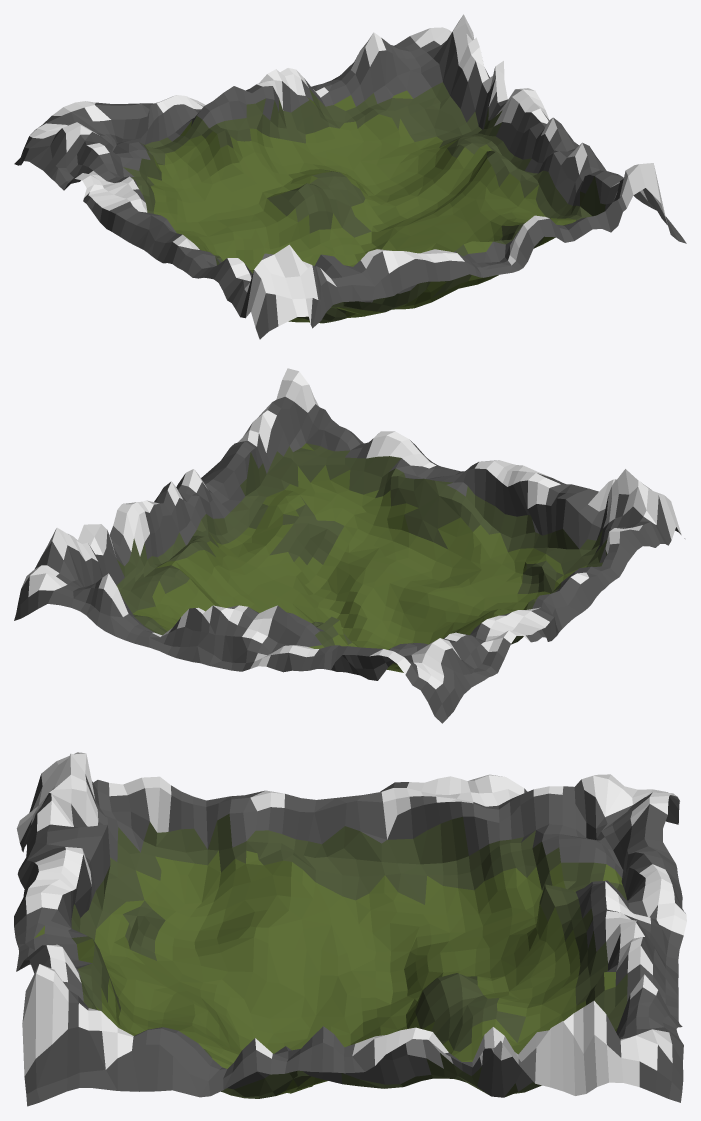
File: terrain.fbx
3 views of the same model, one above another, from view 1: azimuth 30°, elevation 25°; view 2: azimuth 150°, elevation 25°; view 3: azimuth 270°, elevation 25° (orthographic). The views are drawn at different scales.
Parts seen in each view (by area): view 1: Plane; view 2: Plane; view 3: Plane.
Part boxes in pixels (bbox=[...]): Plane: bbox=[14, 14, 686, 339]; Plane: bbox=[14, 368, 684, 723]; Plane: bbox=[14, 752, 686, 1106].
Bounding box in the file's own units: 2121 × 750 × 2068.
